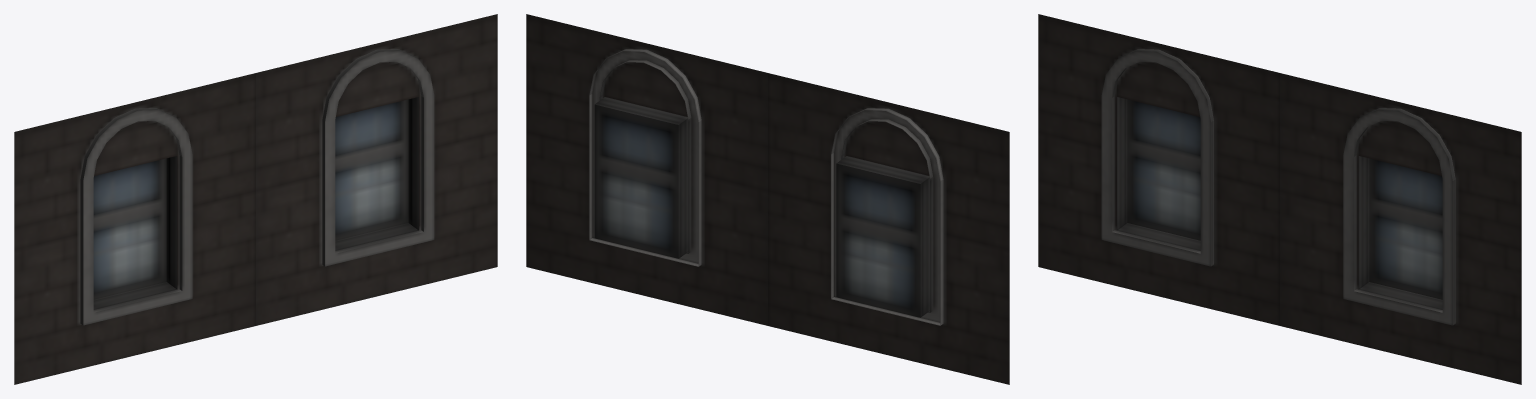
The model's file is B11_Window2x.FBX.
The picture shows the model from 3 angles, left to right: view 1: azimuth 30°, elevation 25°; view 2: azimuth 150°, elevation 25°; view 3: azimuth 330°, elevation 25°; orthographic projection.
Visible parts, largest first — view 1: B11_Window2x; view 2: B11_Window2x; view 3: B11_Window2x.
Part boxes in pixels (left/top/right/bottom): B11_Window2x: left=14, top=14, right=497, bottom=384; B11_Window2x: left=526, top=14, right=1009, bottom=384; B11_Window2x: left=1038, top=14, right=1521, bottom=384.
Bounding box in the file's own units: 8 × 4 × 0.3784.
